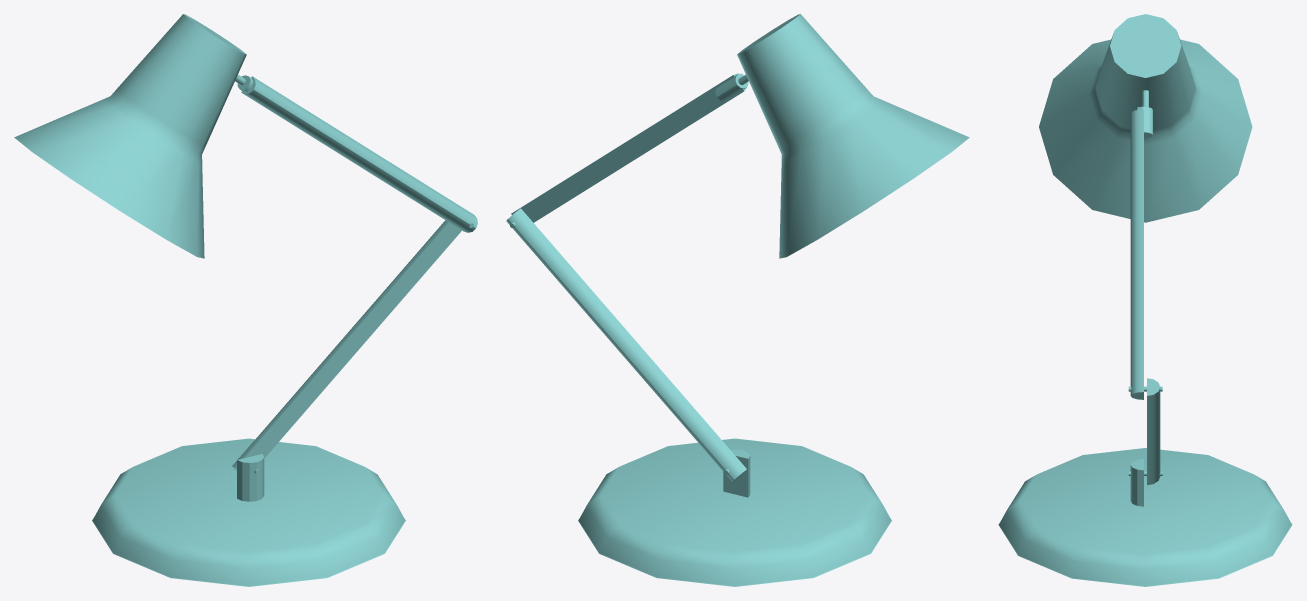
Rendered from LampObjForIKRig.obj.
3 views of the same model, side by side, from view 1: azimuth 30°, elevation 25°; view 2: azimuth 150°, elevation 25°; view 3: azimuth 270°, elevation 25° (orthographic). The views are drawn at different scales.
Visible parts, largest first — view 1: base_geo Geometry, Geometry head_geo, Geometry lower_arm_geo, Geometry upper_arm_geo; view 2: base_geo Geometry, Geometry head_geo, Geometry lower_arm_geo, Geometry upper_arm_geo; view 3: base_geo Geometry, Geometry head_geo, Geometry upper_arm_geo, Geometry lower_arm_geo.
Part boxes in pixels (left/top/right/bottom): base_geo Geometry: left=92, top=438, right=405, bottom=586; Geometry head_geo: left=14, top=14, right=246, bottom=258; Geometry lower_arm_geo: left=232, top=220, right=473, bottom=470; Geometry upper_arm_geo: left=235, top=75, right=477, bottom=232; base_geo Geometry: left=578, top=438, right=891, bottom=586; Geometry head_geo: left=737, top=14, right=969, bottom=258; Geometry lower_arm_geo: left=506, top=208, right=746, bottom=481; Geometry upper_arm_geo: left=511, top=73, right=748, bottom=222; base_geo Geometry: left=998, top=448, right=1292, bottom=586; Geometry head_geo: left=1039, top=14, right=1252, bottom=222; Geometry upper_arm_geo: left=1130, top=90, right=1152, bottom=399; Geometry lower_arm_geo: left=1128, top=378, right=1162, bottom=485.
Bounding box in the file's own units: 23.75 × 26.54 × 14.63.
